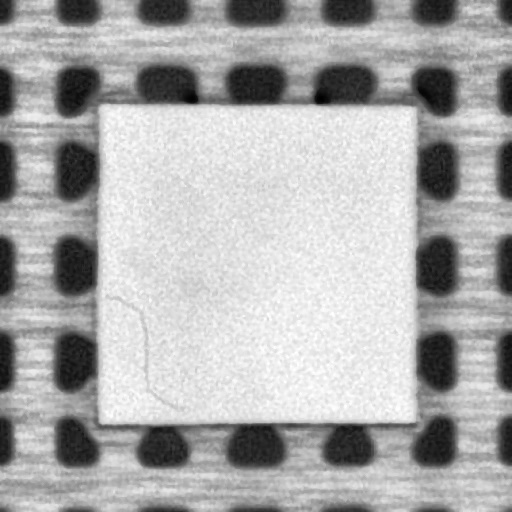DIE_CRACK: (103, 292, 175, 410)
